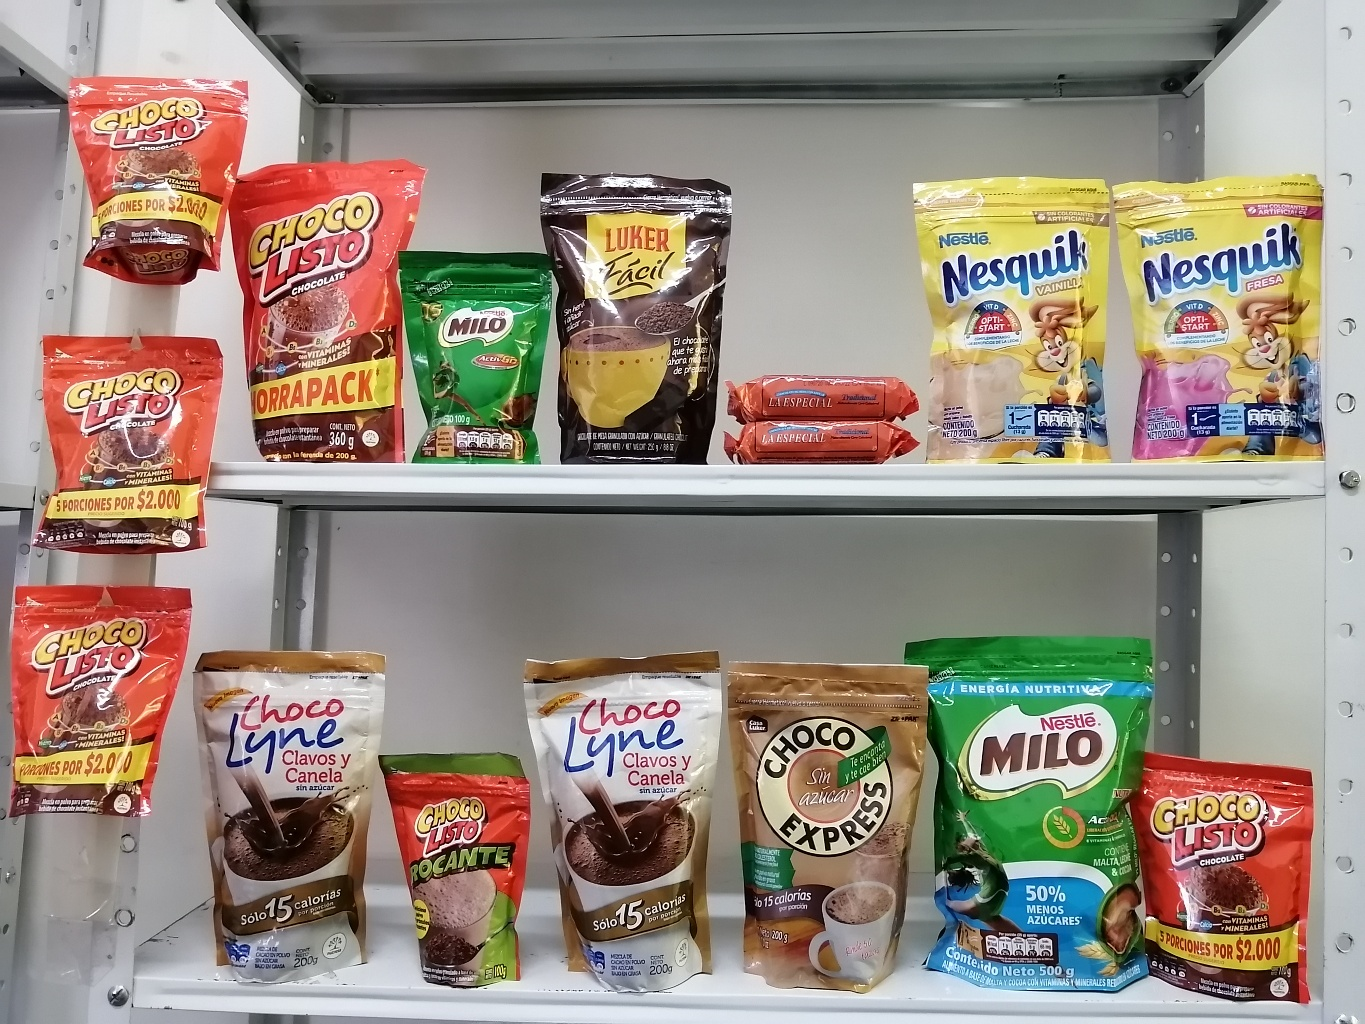COL0170102DYP10000: (374, 749, 537, 991)
COL0170103DYP10000: (68, 72, 251, 288)
COL0170103DYP36000: (228, 158, 428, 463)
COL0170203DYP10000: (396, 248, 552, 467)
COL0170205DYP50000: (904, 635, 1161, 998)
COL0170305DYP20000: (1109, 174, 1328, 463)
COL0170306DYP20000: (912, 180, 1115, 460)
